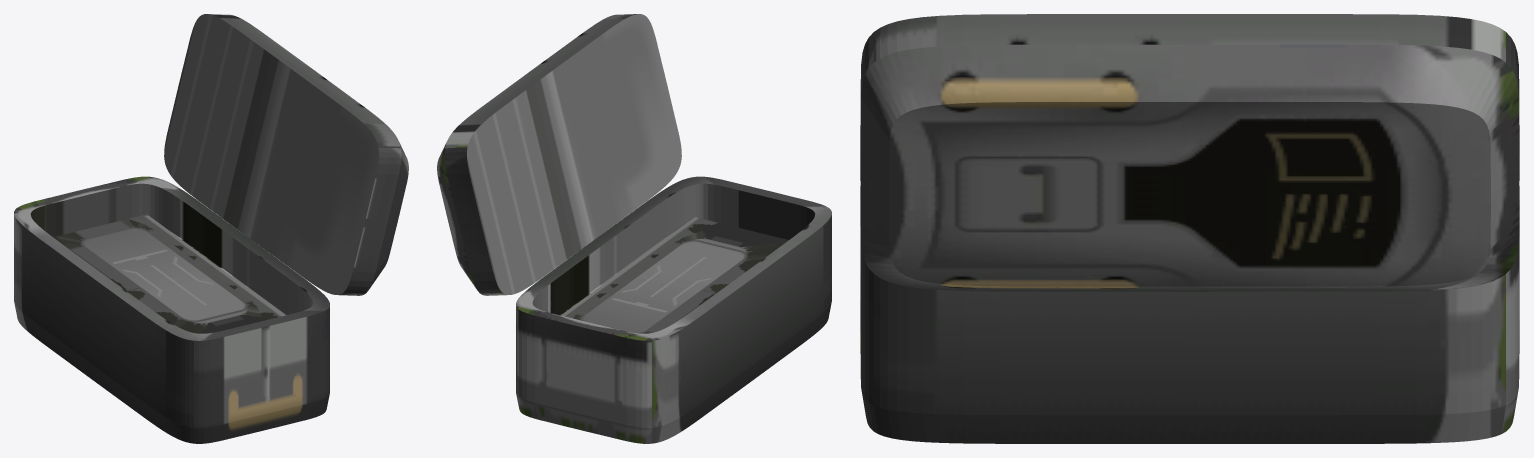
Rendered from Building_CryptosleepCasket__Open.obj.
3 views of the same model, side by side, from view 1: azimuth 30°, elevation 25°; view 2: azimuth 150°, elevation 25°; view 3: azimuth 270°, elevation 25° (orthographic). The views are drawn at different scales.
Parts seen in each view (by area): view 1: Body; view 2: Body; view 3: Body.
Part boxes in pixels (<box>): Body: <box>14,14,408,443</box>; Body: <box>437,14,831,443</box>; Body: <box>860,14,1519,443</box>.
Size of the model in its own units: 1.42 by 1.52 by 1.94.
1 material, 1 textured.
